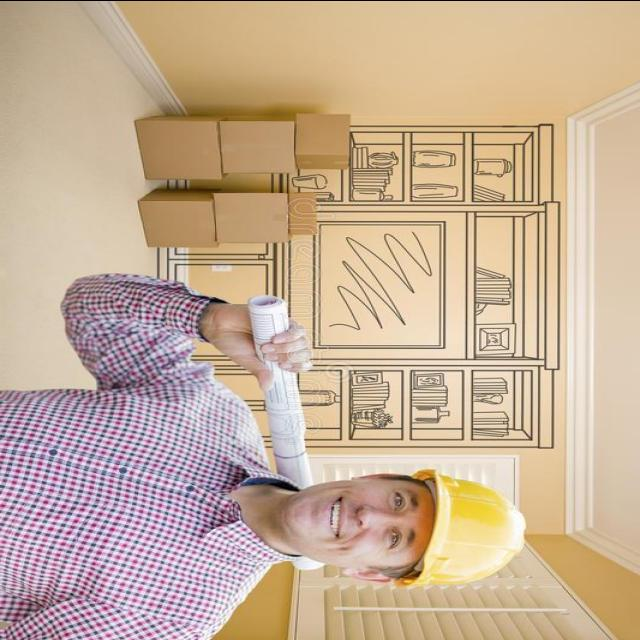helmet: (383, 458, 538, 600)
